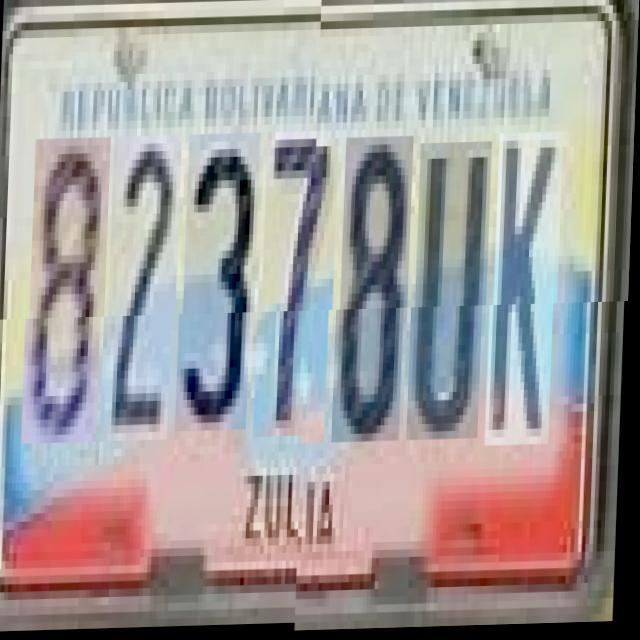2: (107, 144, 183, 450)
3: (182, 142, 262, 440)
7: (260, 140, 340, 447)
8: (28, 146, 112, 452), (339, 138, 415, 444)
K: (492, 136, 564, 448)
U: (413, 144, 493, 442)
